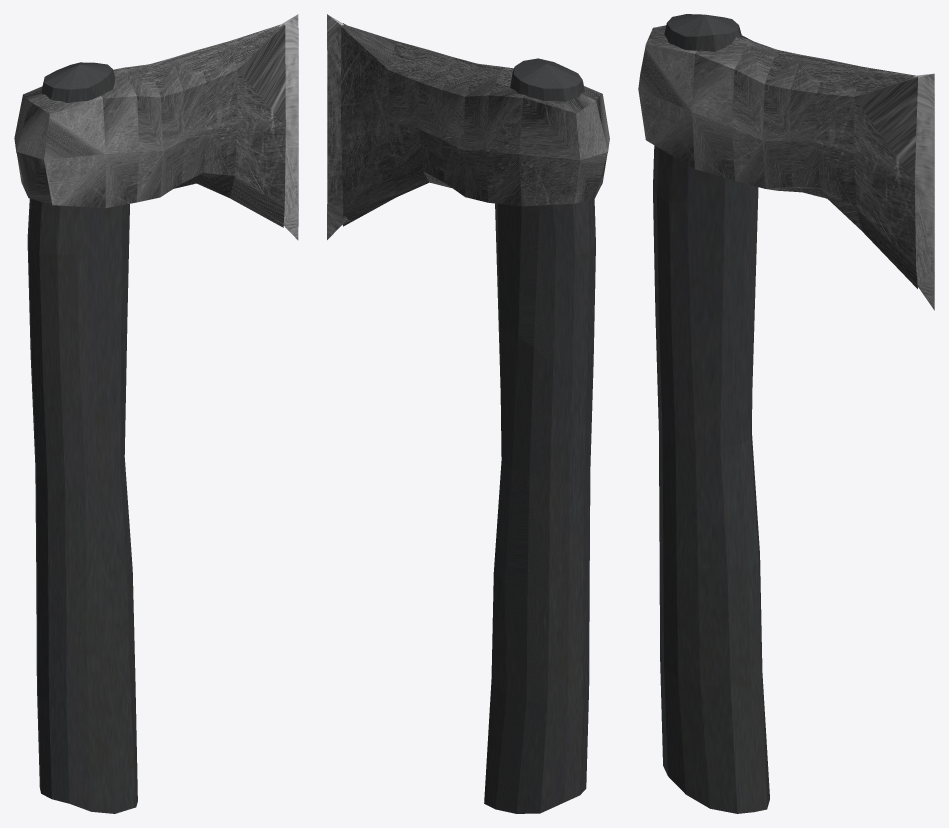
The model's file is FrostAxe.fbx.
The picture shows the model from 3 angles, left to right: view 1: azimuth 30°, elevation 25°; view 2: azimuth 150°, elevation 25°; view 3: azimuth 330°, elevation 25°; orthographic projection. The views are drawn at different scales.
Parts seen in each view (by area): view 1: Axe; view 2: Axe; view 3: Axe.
Boxes of the visible parts, x1,y1,x2,y2 form: Axe: (14, 14, 298, 813); Axe: (327, 14, 609, 813); Axe: (638, 14, 934, 813).
Bounding box in the file's own units: 41.56 × 106 × 10.1.
